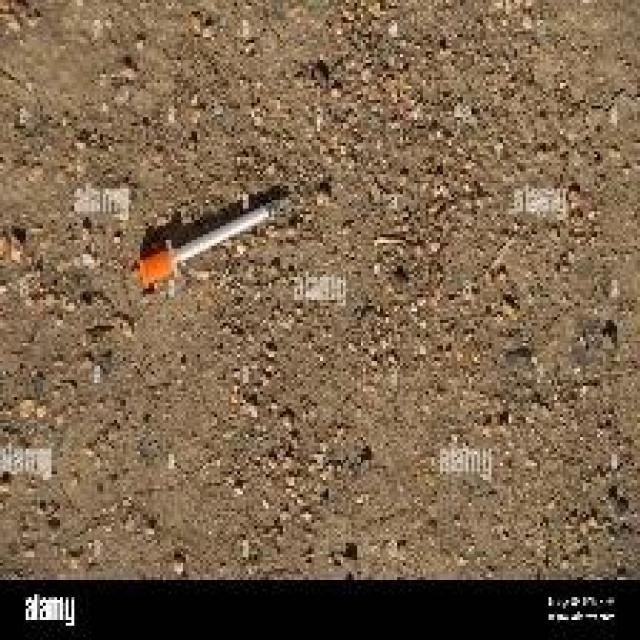syringe: (122, 154, 302, 314)
